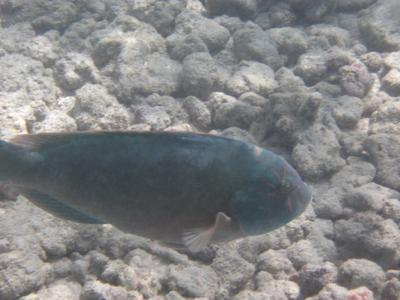Scaridae -Parrotfishes-: (0, 120, 321, 254)
